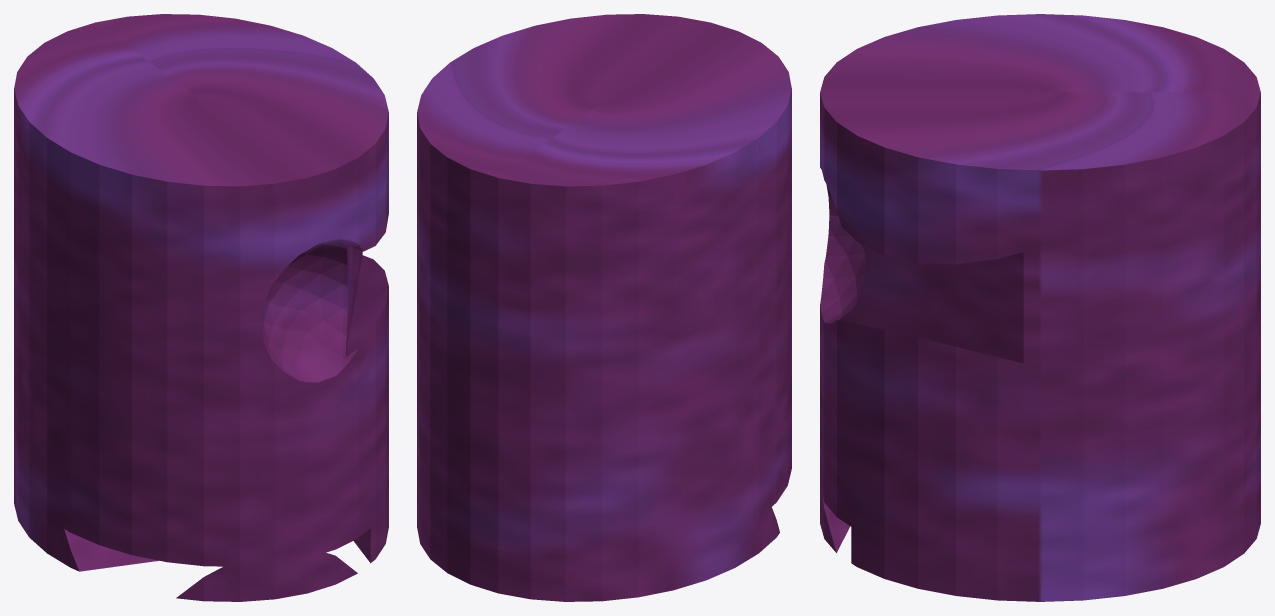
The picture shows the model from 3 angles, left to right: view 1: azimuth 30°, elevation 25°; view 2: azimuth 150°, elevation 25°; view 3: azimuth 270°, elevation 25°; orthographic projection. The views are drawn at different scales.
Parts seen in each view (by area): view 1: geometry_0; view 2: geometry_0; view 3: geometry_0.
Part boxes in pixels (<box>): geometry_0: <box>14,14,388,601</box>; geometry_0: <box>417,14,791,601</box>; geometry_0: <box>820,14,1260,601</box>.
Size of the model in its own units: 1.96 by 2.52 by 2.33.
Materials: 1 (1 with a texture image).
